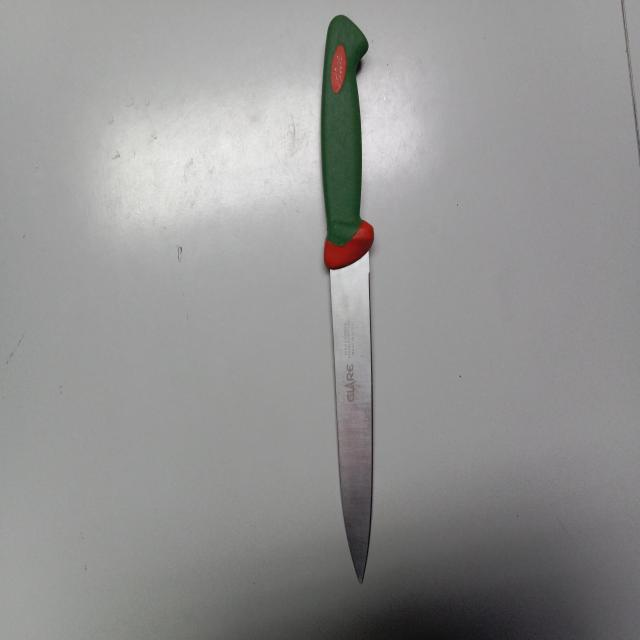Knife: (321, 14, 374, 583)
